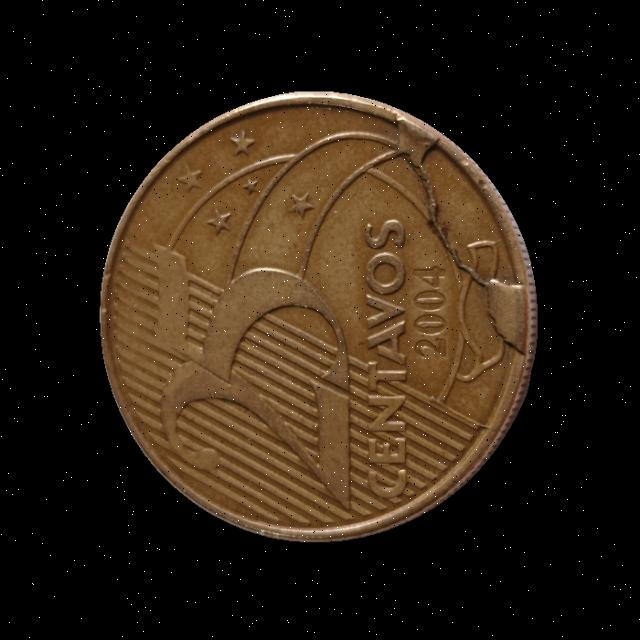25 cent: (97, 91, 540, 542)
